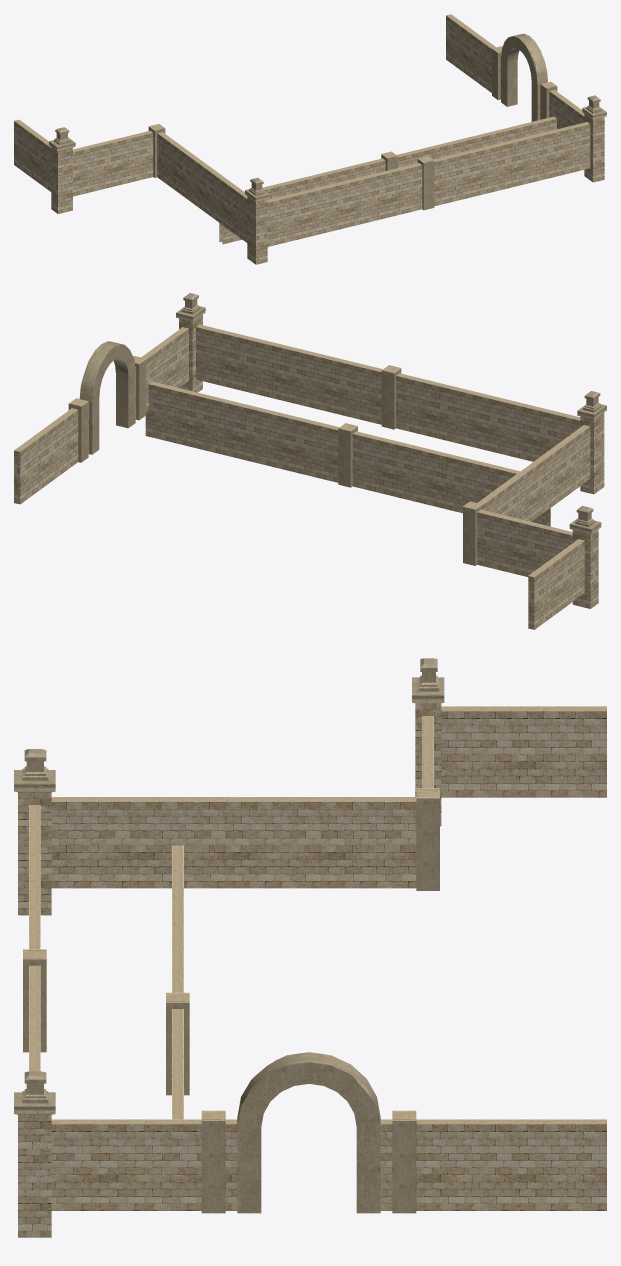
File: poi_nboo_corral_half_64x64_s03_l0.fbx
The picture shows the model from 3 angles, top to bottom: view 1: azimuth 30°, elevation 25°; view 2: azimuth 150°, elevation 25°; view 3: azimuth 270°, elevation 25°; orthographic projection. The views are drawn at different scales.
Visible parts, largest first — view 1: mesh_node; view 2: mesh_node; view 3: mesh_node.
Boxes of the visible parts, x1,y1,x2,y2 form: mesh_node: (14, 14, 606, 264); mesh_node: (14, 293, 606, 629); mesh_node: (14, 658, 606, 1237).
Bounding box in the file's own units: 42.55 × 9 × 24.87.
